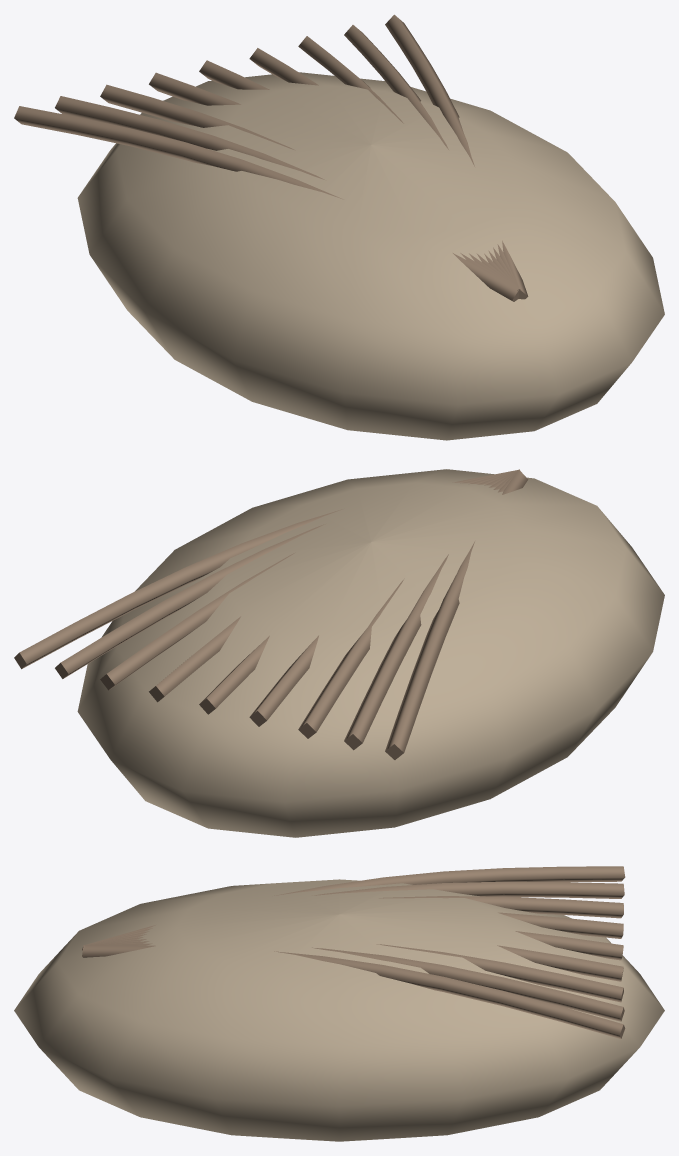
File: Shell.fbx
3 renders of one model, top to bottom at view 1: azimuth 30°, elevation 25°; view 2: azimuth 150°, elevation 25°; view 3: azimuth 270°, elevation 25°, orthographic. The views are drawn at different scales.
Parts seen in each view (by area): view 1: Shell crafted mesh; view 2: Shell crafted mesh; view 3: Shell crafted mesh.
Part boxes in pixels (x1,y1,x2,y2): Shell crafted mesh: (14, 14, 664, 440); Shell crafted mesh: (14, 469, 664, 837); Shell crafted mesh: (14, 866, 664, 1141).
Bounding box in the file's own units: 0.32 × 0.15 × 0.46.
